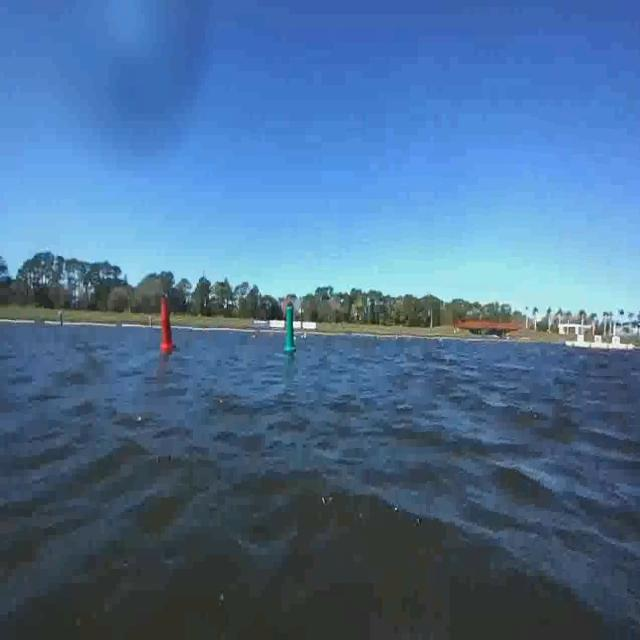green-column-buoy: (282, 305, 296, 353)
red-column-buoy: (160, 296, 177, 352)
